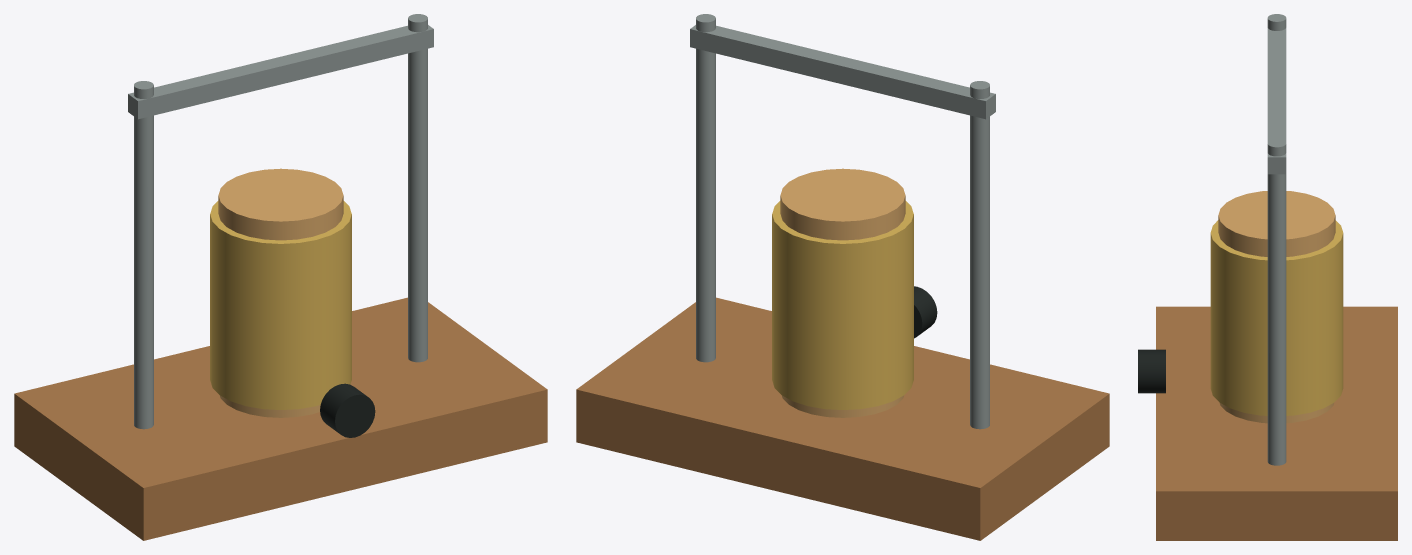
Rendered from wireless.glb.
The picture shows the model from 3 angles, left to right: view 1: azimuth 30°, elevation 25°; view 2: azimuth 150°, elevation 25°; view 3: azimuth 270°, elevation 25°; orthographic projection. The views are drawn at different scales.
Size of the model in its own units: 2.8 by 2.6 by 1.67.
